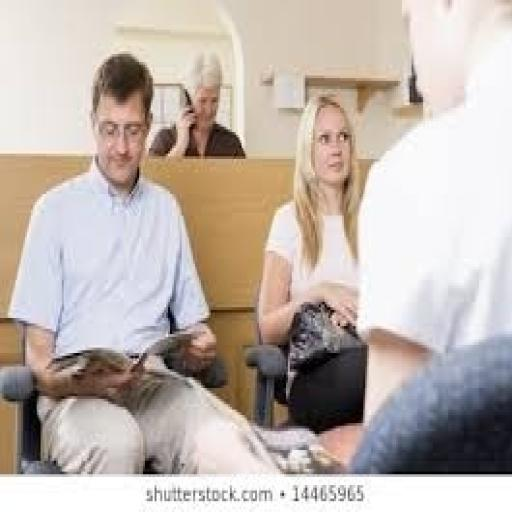sitting: (5, 0, 510, 474), (6, 48, 282, 474), (344, 0, 510, 474), (255, 89, 367, 431), (147, 46, 247, 159)
